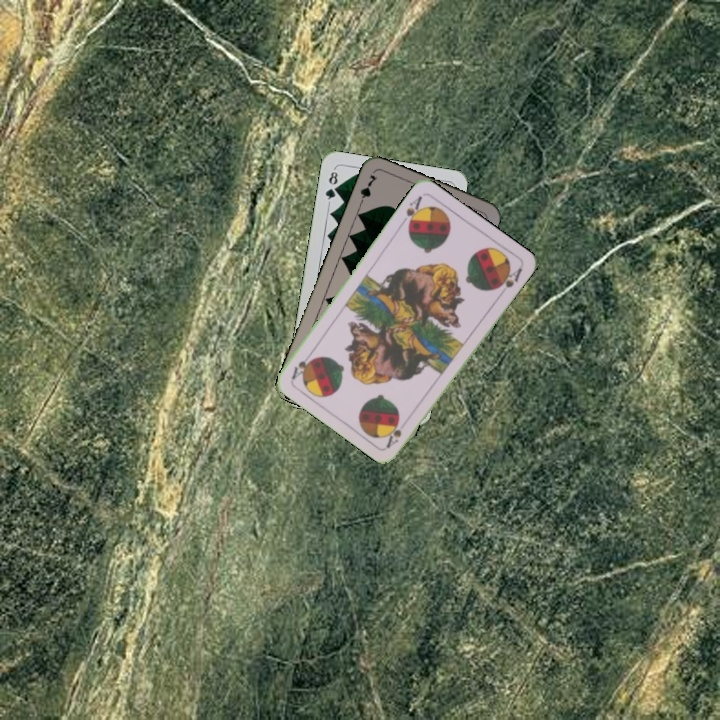G7: (355, 170, 380, 209)
G8: (321, 165, 340, 206)
SA: (397, 191, 425, 231), (382, 421, 404, 450)
